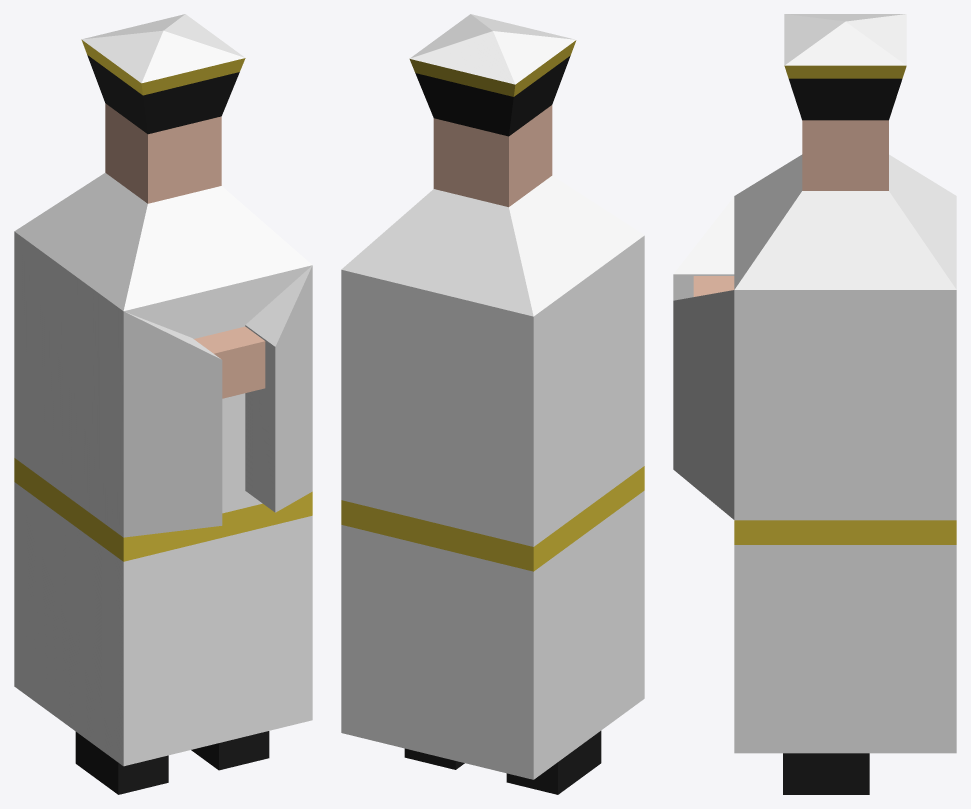
Rendered from Trader_01.fbx.
3 views of the same model, side by side, from view 1: azimuth 30°, elevation 25°; view 2: azimuth 150°, elevation 25°; view 3: azimuth 270°, elevation 25° (orthographic).
Parts seen in each view (by area): view 1: Trader_01, Trader_01_Head, Trader_01_LegRight, Trader_01_LegLeft; view 2: Trader_01, Trader_01_Head, Trader_01_LegRight, Trader_01_LegLeft; view 3: Trader_01, Trader_01_Head, Trader_01_LegLeft.
Part boxes in pixels (bbox=[...]): Trader_01: bbox=[14, 172, 312, 766]; Trader_01_Head: bbox=[81, 14, 245, 203]; Trader_01_LegRight: bbox=[75, 731, 168, 794]; Trader_01_LegLeft: bbox=[191, 731, 269, 770]; Trader_01: bbox=[341, 175, 644, 779]; Trader_01_Head: bbox=[409, 14, 576, 207]; Trader_01_LegRight: bbox=[506, 731, 601, 794]; Trader_01_LegLeft: bbox=[404, 748, 464, 769]; Trader_01: bbox=[673, 154, 956, 753]; Trader_01_Head: bbox=[784, 14, 906, 190]; Trader_01_LegLeft: bbox=[783, 753, 869, 794].
Bounding box in the file's own units: 0.5522 × 2.02 × 0.7041.
